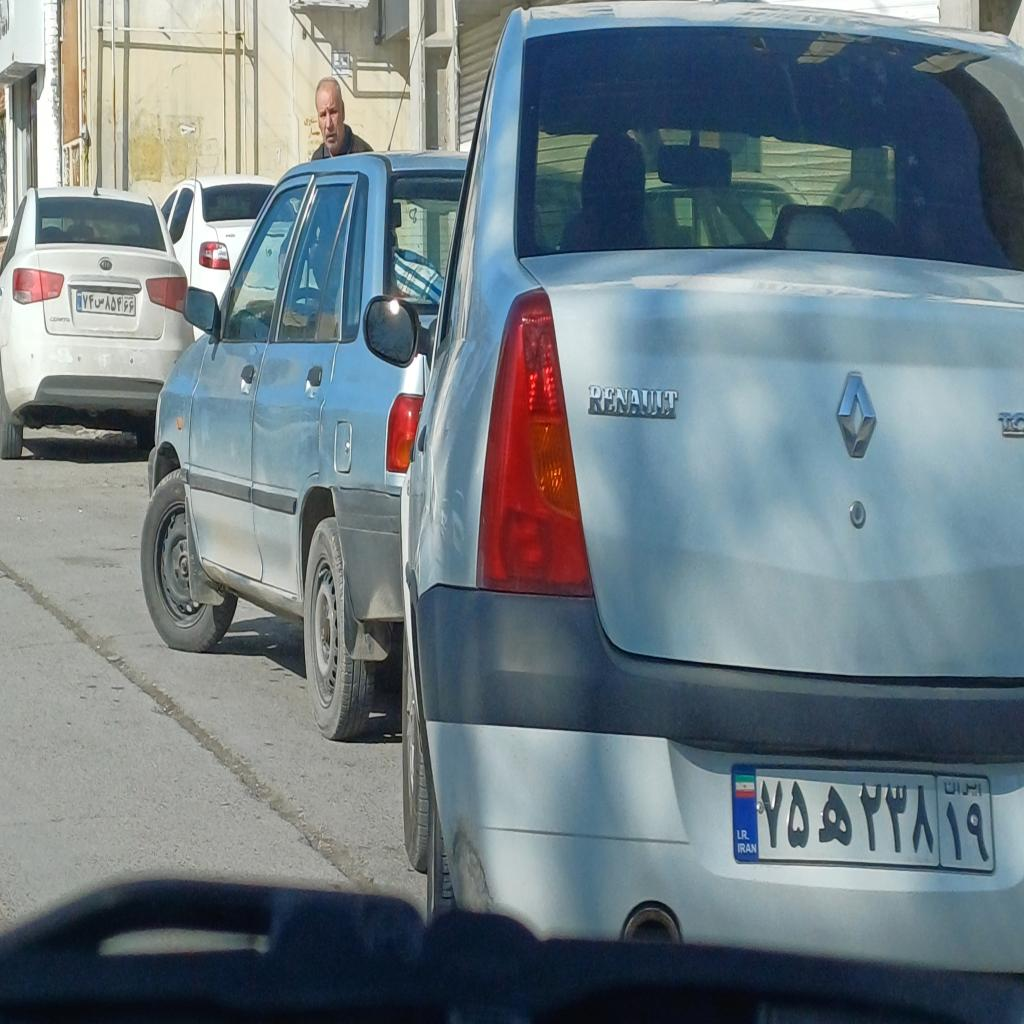Plates: (729, 756, 999, 881), (76, 289, 136, 318)
